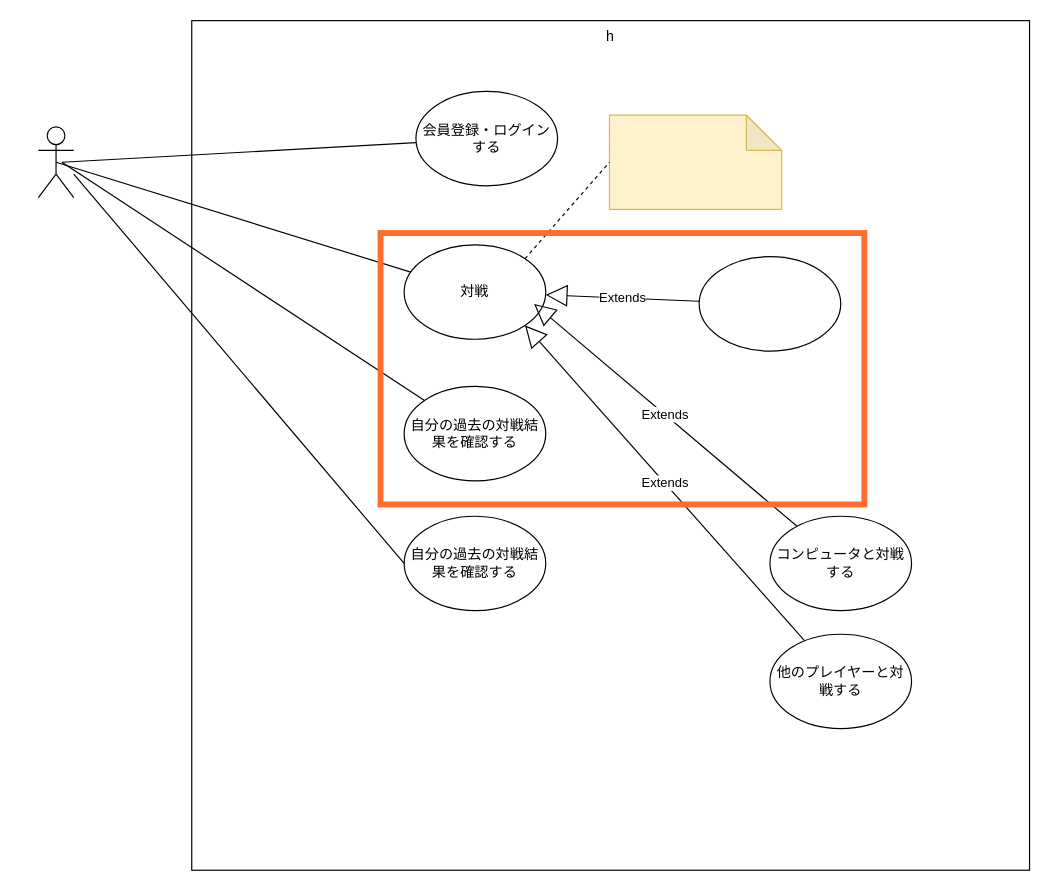
Some shapes in this 1050 by 891 pixel diagram are drawn without their labels. Each missing label, with the centre of its shape:
"プレイヤー" goes at point (55, 162).
"・対戦を開始する ・盤面を見る ・石を打つ ・勝敗を確認する" goes at point (695, 161).
"一人で黒白交互に打つ" goes at point (769, 303).
